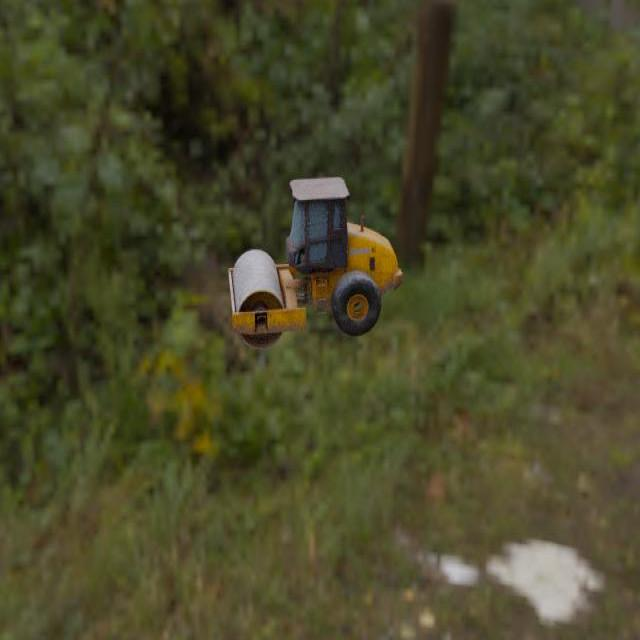Roller: (227, 178, 402, 350)
